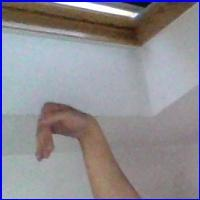del: (30, 97, 100, 168)
